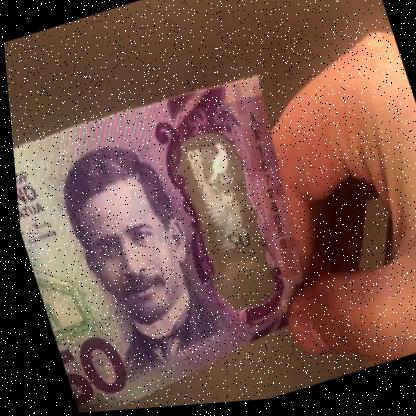50F: (173, 133, 271, 310)
